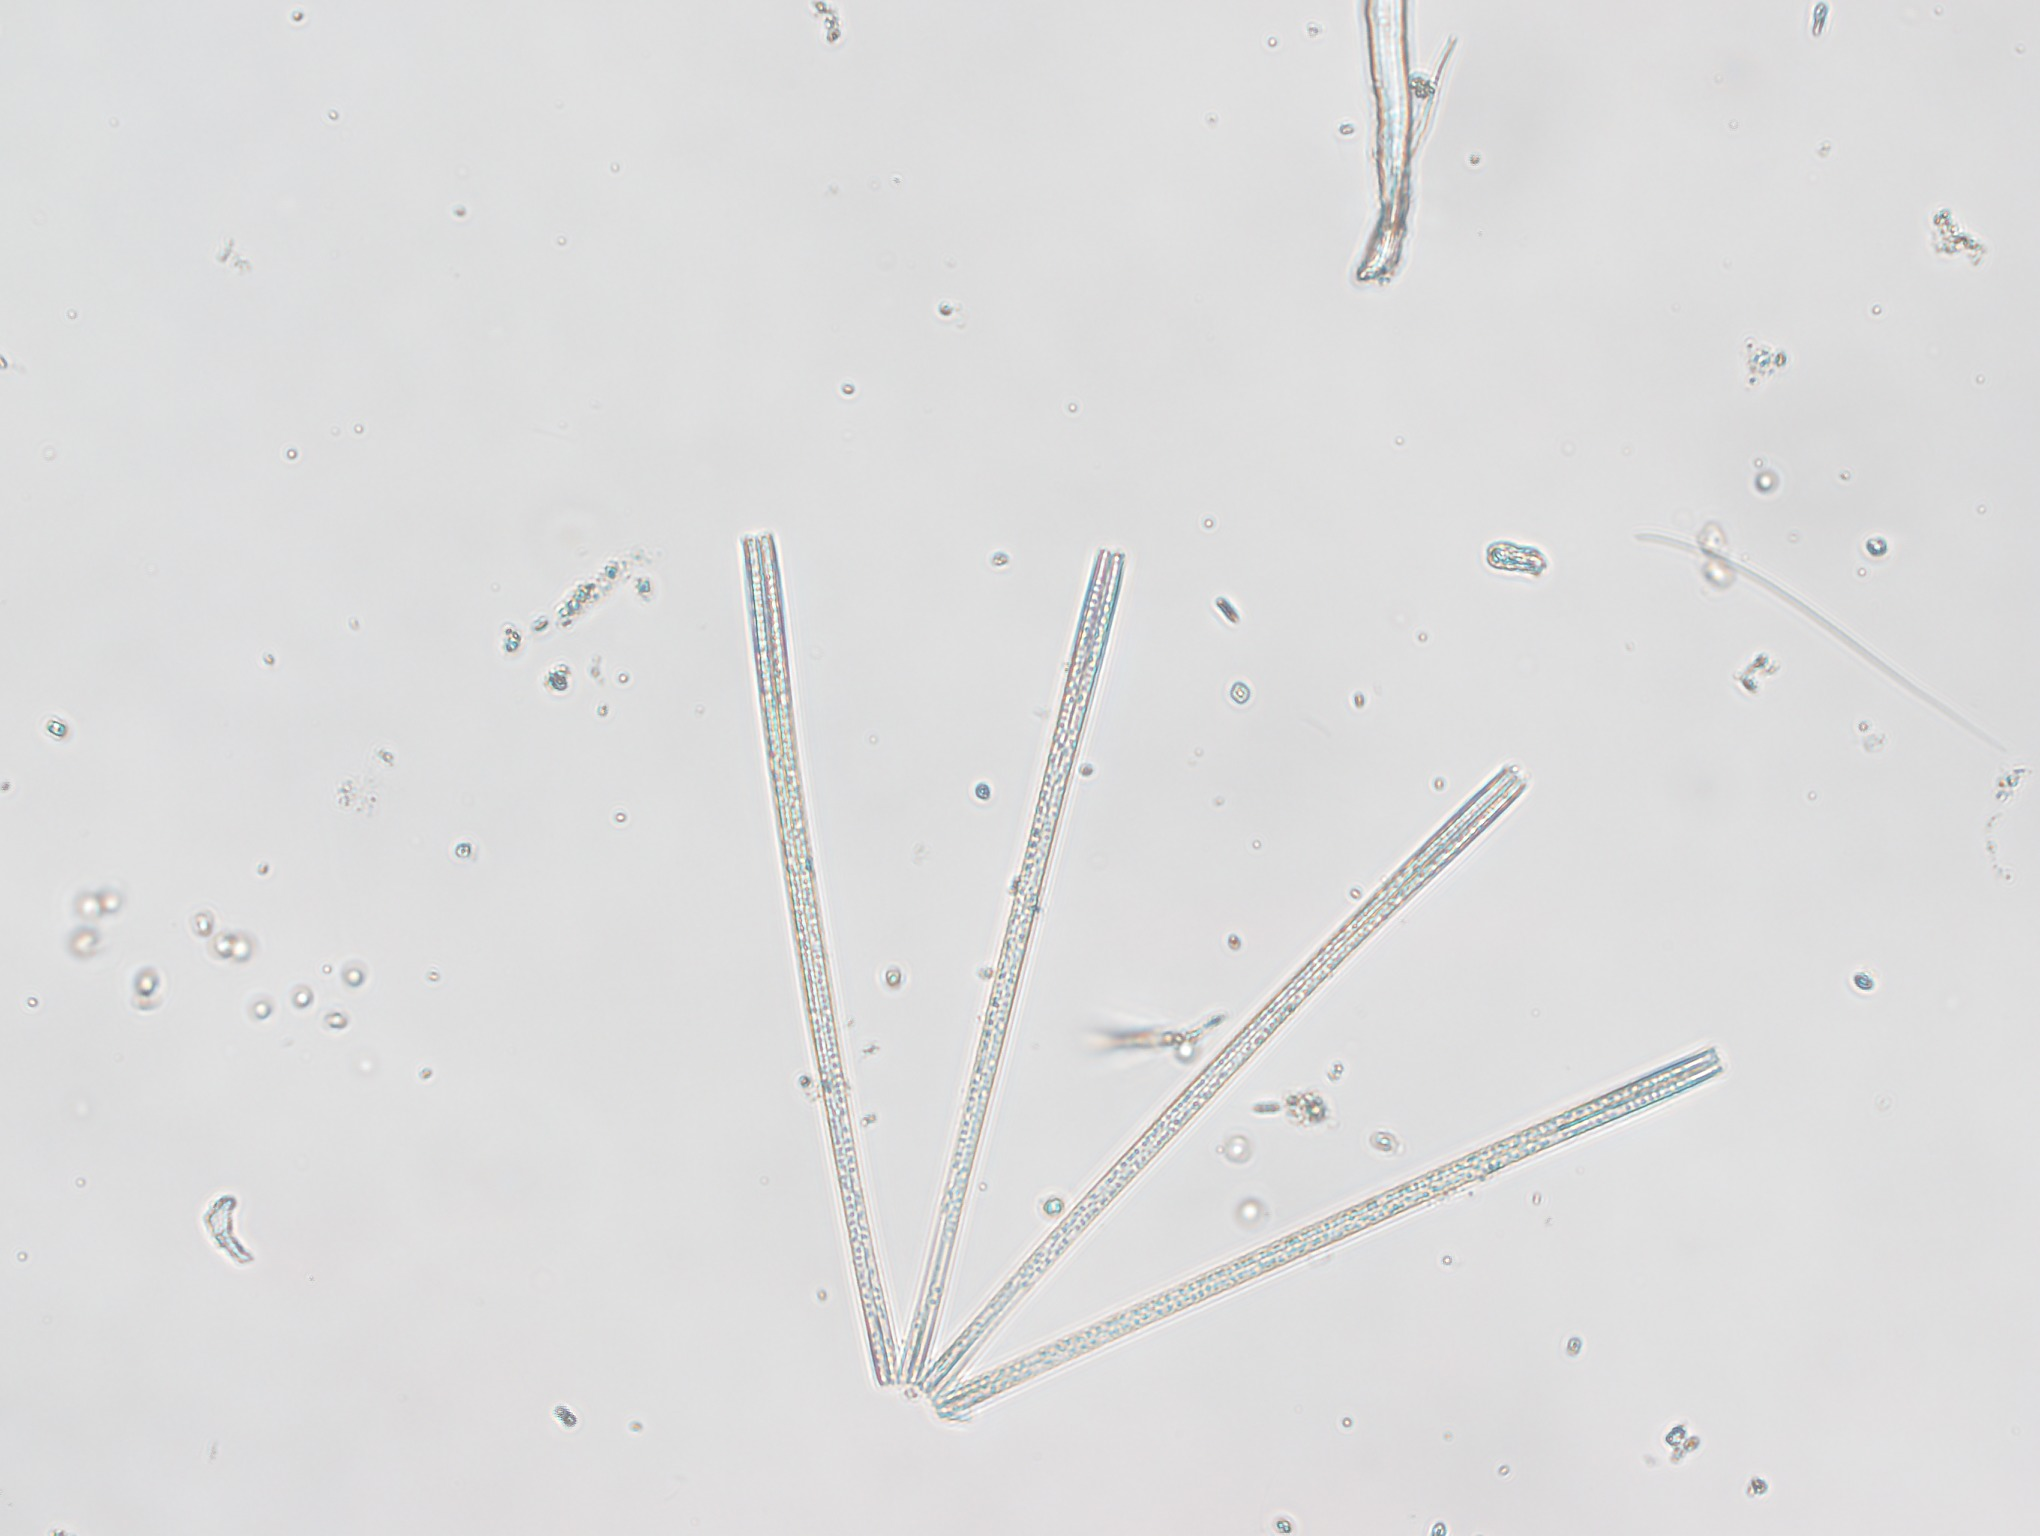thalassionema frauenfeldii: (718, 520, 1742, 1425)
